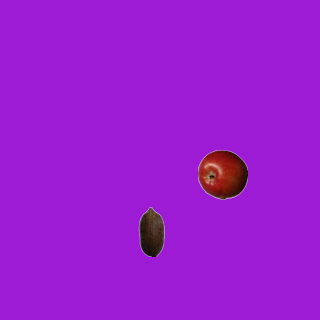Apple Braeburn: (197, 149, 247, 199)
Nut Pecan: (126, 206, 176, 256)
